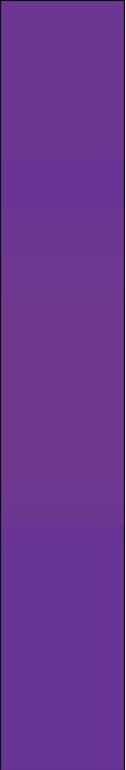safe: (14, 2, 119, 755)
